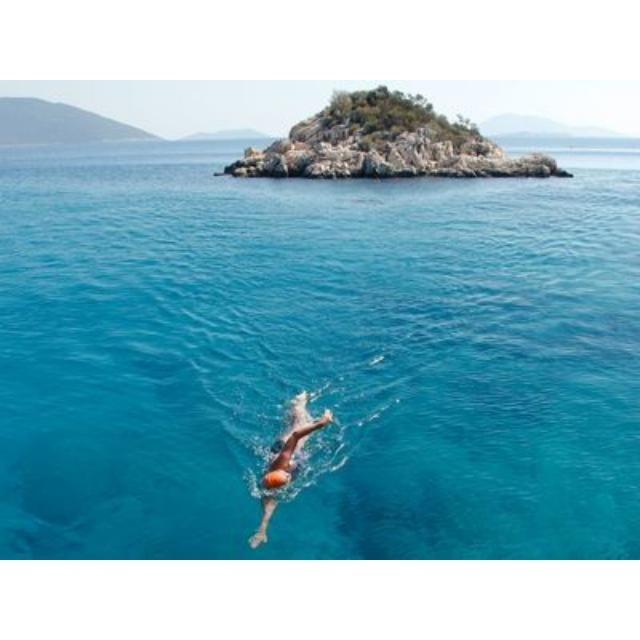human: (248, 390, 334, 550)
